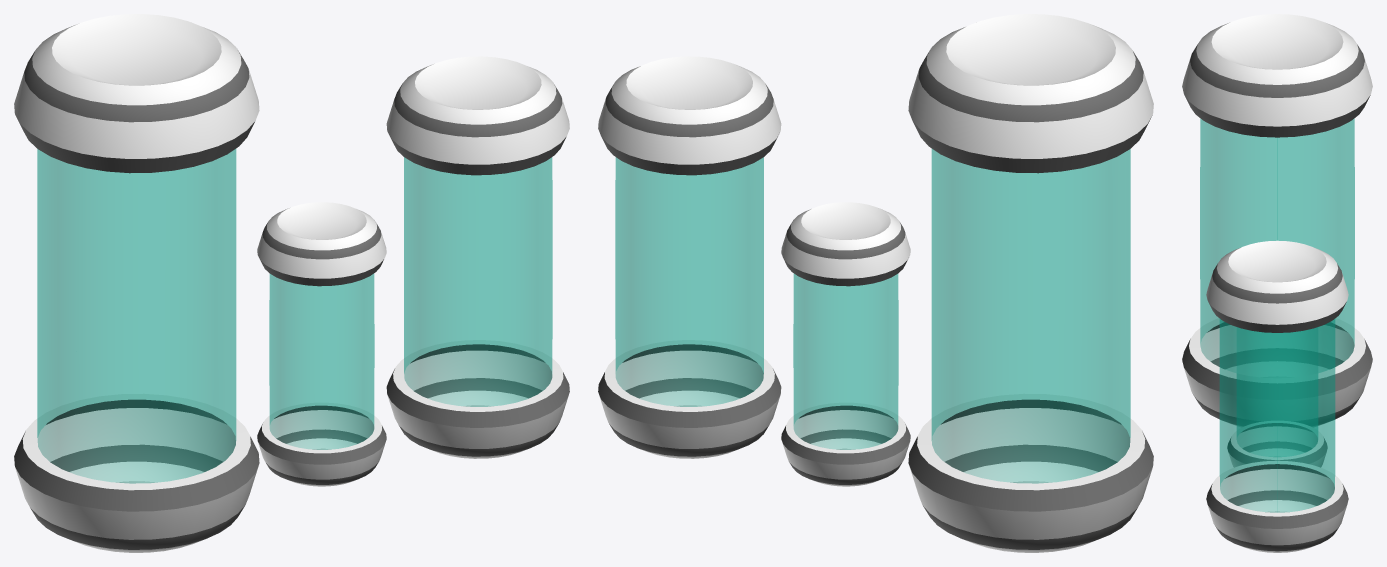
Rendered from backgroundTubes.fbx.
3 renders of one model, left to right at view 1: azimuth 30°, elevation 25°; view 2: azimuth 150°, elevation 25°; view 3: azimuth 270°, elevation 25°, orthographic. The views are drawn at different scales.
Parts seen in each view (by area): view 1: tube.002, tube.004, tube.001; view 2: tube.002, tube.004, tube.001; view 3: tube.002, tube.004, tube.001.
Part boxes in pixels (<box>): tube.002: <box>14,14,259,552</box>; tube.004: <box>386,56,569,458</box>; tube.001: <box>257,202,386,486</box>; tube.002: <box>908,14,1153,552</box>; tube.004: <box>598,56,781,458</box>; tube.001: <box>781,202,910,486</box>; tube.002: <box>1182,14,1372,426</box>; tube.004: <box>1206,240,1348,552</box>; tube.001: <box>1227,327,1327,467</box>.
Bounding box in the file's own units: 541 × 458 × 218.
Materials: 3 (1 with a texture image).
